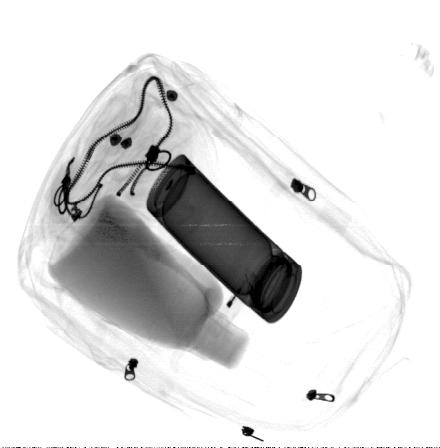Lighter: (216, 269, 260, 327)
